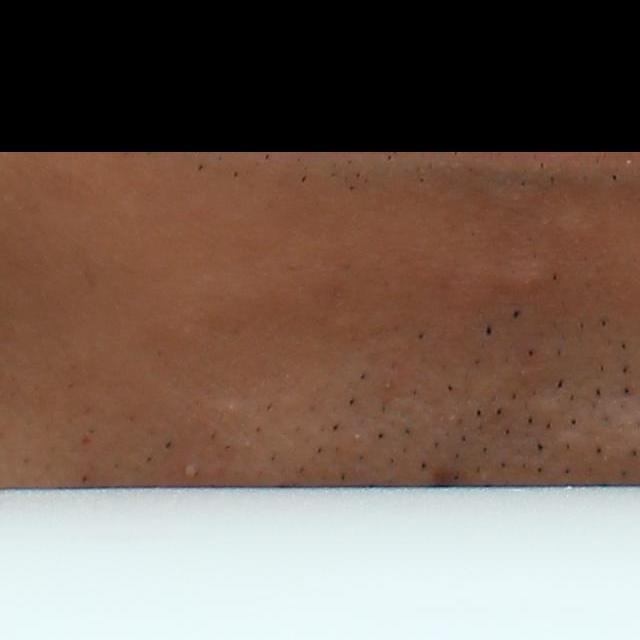hypertrophic_scar: (552, 199, 609, 239)
papule: (503, 261, 550, 298)
